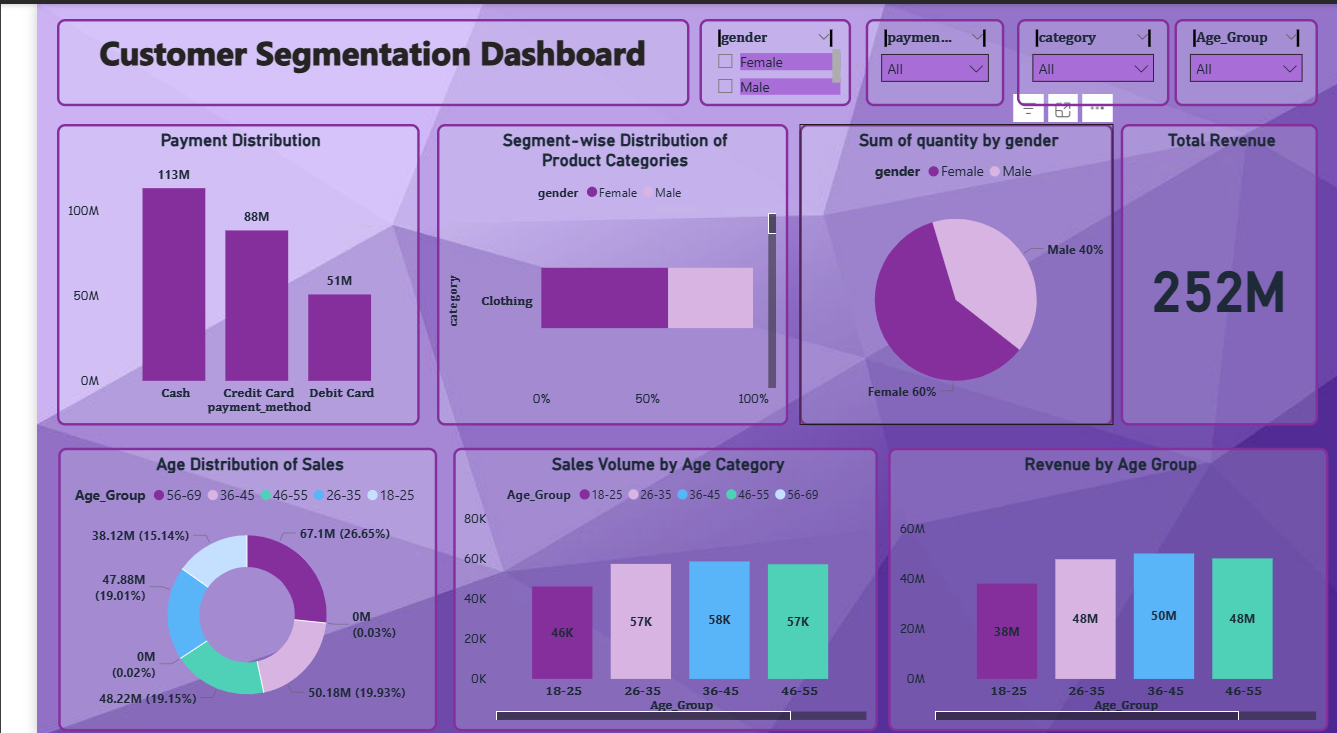

The page's visual inventory and layout, read from the dashboard file:
{"tool":"powerbi","page":{"name":"Dashboard","canvas":[1280,720],"ordinal":0},"visuals":[{"type":"columnChart","title":"Payment Distribution","fields":{"Category":["customer.payment_method"],"Y":["customer.Total_Revenue"]},"box":[19.6,117.8,355.8,295.7],"z":0},{"type":"hundredPercentStackedBarChart","title":"Segment-wise Distribution of Product Categories","fields":{"Series":["customer.gender"],"Category":["customer.category"],"Y":["Sum(customer.quantity)"]},"box":[392.6,117.8,344.8,295.7],"z":1000},{"type":"pieChart","fields":{"Category":["project_customer_segmentation customer.gender"],"Y":["Sum(project_customer_segmentation customer.quantity)"]},"box":[748.5,117.8,308,295.7],"z":2000},{"type":"card","title":"Total Revenue","fields":{"Values":["customer.Total_Revenue"]},"box":[1063.8,117.8,193.9,295.7],"z":3000},{"type":"donutChart","title":"Age Distribution of Sales","fields":{"Category":["customer.Age_Group"],"Y":["customer.Total_Revenue","Sum(customer.quantity)"]},"box":[20.9,435.6,371.8,278.5],"z":4000},{"type":"columnChart","title":"Sales Volume by Age Category","fields":{"Category":["customer.Age_Group"],"Y":["Sum(customer.quantity)"],"Series":["customer.Age_Group"]},"box":[408.6,435.6,417.2,278.5],"z":5000},{"type":"clusteredColumnChart","title":"Revenue by Age Group","fields":{"Category":["customer.Age_Group"],"Y":["customer.Total_Revenue"]},"box":[835.6,435.6,431.9,278.5],"z":6000},{"type":"textbox","box":[19.6,14.7,620.9,85.9],"z":7000},{"type":"slicer","title":"Gender","fields":{"Values":["customer.gender"]},"box":[650.3,14.7,148.5,85.9],"z":8000},{"type":"slicer","fields":{"Values":["customer.Age_Group"]},"box":[1116.6,14.7,141.1,85.9],"z":9000},{"type":"slicer","fields":{"Values":["project_customer_segmentation customer.payment_method"]},"box":[813.5,14.7,136.2,85.9],"z":10000},{"type":"slicer","title":"product categories","fields":{"Values":["customer.category"]},"box":[962,14.7,149.7,85.9],"z":11000}]}

Visuals, with their boxes in screenshot pixels (x1, y1, x2, y2), scaled from the page's 1280x720 canvas onto the 1337x733 screenshot:
"Payment Distribution" columnChart: select_region(20, 120, 392, 421)
"Segment-wise Distribution of Product Categories" hundredPercentStackedBarChart: select_region(410, 120, 770, 421)
pieChart - project_customer_segmentation customer.gender x Sum(project_customer_segmentation customer.quantity): select_region(782, 120, 1104, 421)
"Total Revenue" card: select_region(1111, 120, 1314, 421)
"Age Distribution of Sales" donutChart: select_region(22, 443, 410, 727)
"Sales Volume by Age Category" columnChart: select_region(427, 443, 863, 727)
"Revenue by Age Group" clusteredColumnChart: select_region(873, 443, 1324, 727)
textbox: select_region(20, 15, 669, 102)
"Gender" slicer: select_region(679, 15, 834, 102)
slicer - customer.Age_Group: select_region(1166, 15, 1314, 102)
slicer - project_customer_segmentation customer.payment_method: select_region(850, 15, 992, 102)
"product categories" slicer: select_region(1005, 15, 1161, 102)
